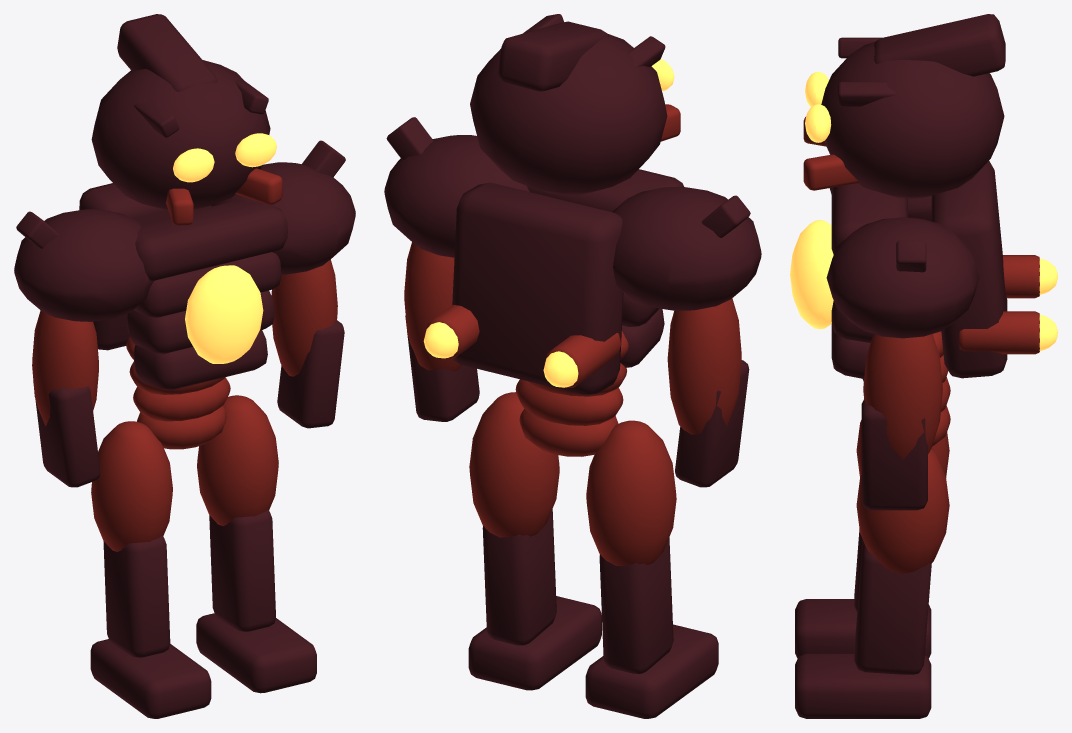
Rendered from Soldier_EmberBrood_Armor.fbx.
3 renders of one model, left to right at view 1: azimuth 30°, elevation 25°; view 2: azimuth 150°, elevation 25°; view 3: azimuth 270°, elevation 25°, orthographic. The views are drawn at different scales.
Visible parts, largest first — view 1: Cranium.003, CarapaceShoulder_L.003, ThighMuscle_L.003, ThoraxPlate_00.003, ThighMuscle_R.003, ReverseShin_R.003, ReverseShin_L.003, CarapaceShoulder_R.003, ClawedFoot_L.003, ClawedFoot_R.003, MoltenHeart.003, UpperLimb_R.003 (+19 smaller); view 2: DorsalCarapace.003, Cranium.003, CarapaceShoulder_L.003, ThighMuscle_L.003, ThighMuscle_R.003, CarapaceShoulder_R.003, UpperLimb_L.003, ReverseShin_R.003, ReverseShin_L.003, ClawedFoot_R.003, ClawedFoot_L.003, Crown.003 (+15 smaller); view 3: Cranium.003, CarapaceShoulder_R.003, DorsalCarapace.003, ReverseShin_R.003, ClawedFoot_R.003, UpperLimb_R.003, ThighMuscle_R.003, Crown.003, ClawGuard_R.003, MoltenHeart.003, ClawedFoot_L.003, ThoraxPlate_00.003 (+14 smaller).
Boxes of the visible parts, x1,y1,x2,y2 form: Cranium.003: (91, 60, 270, 210); CarapaceShoulder_L.003: (14, 209, 154, 321); ThighMuscle_L.003: (91, 421, 172, 551); ThoraxPlate_00.003: (135, 200, 287, 280); ThighMuscle_R.003: (197, 395, 278, 525); ReverseShin_R.003: (209, 509, 275, 631); ReverseShin_L.003: (103, 535, 170, 657); CarapaceShoulder_R.003: (211, 162, 355, 274); ClawedFoot_L.003: (90, 639, 211, 718); ClawedFoot_R.003: (196, 613, 316, 693); MoltenHeart.003: (185, 265, 263, 363); UpperLimb_R.003: (271, 259, 337, 376); DorsalCarapace.003: (452, 182, 623, 395); Cranium.003: (470, 34, 667, 195); CarapaceShoulder_L.003: (612, 186, 761, 310); ThighMuscle_L.003: (586, 420, 676, 565); ThighMuscle_R.003: (469, 392, 559, 537); CarapaceShoulder_R.003: (384, 135, 529, 257); UpperLimb_L.003: (667, 298, 741, 434); ReverseShin_R.003: (482, 509, 556, 645); ReverseShin_L.003: (599, 537, 673, 673); ClawedFoot_R.003: (468, 596, 601, 690); ClawedFoot_L.003: (585, 624, 718, 718); Crown.003: (498, 21, 608, 91); Cranium.003: (821, 42, 1004, 198); CarapaceShoulder_R.003: (826, 217, 979, 338); DorsalCarapace.003: (931, 161, 1007, 378); ReverseShin_R.003: (854, 544, 931, 674); ClawedFoot_R.003: (795, 653, 931, 718); UpperLimb_R.003: (863, 334, 942, 459); ThighMuscle_R.003: (856, 448, 949, 573); Crown.003: (874, 14, 1005, 76); ClawGuard_R.003: (861, 399, 927, 510); MoltenHeart.003: (790, 220, 833, 329); ClawedFoot_L.003: (795, 599, 931, 658); ThoraxPlate_00.003: (831, 183, 907, 254).
Bounding box in the file's own units: 239 × 436 × 161.
